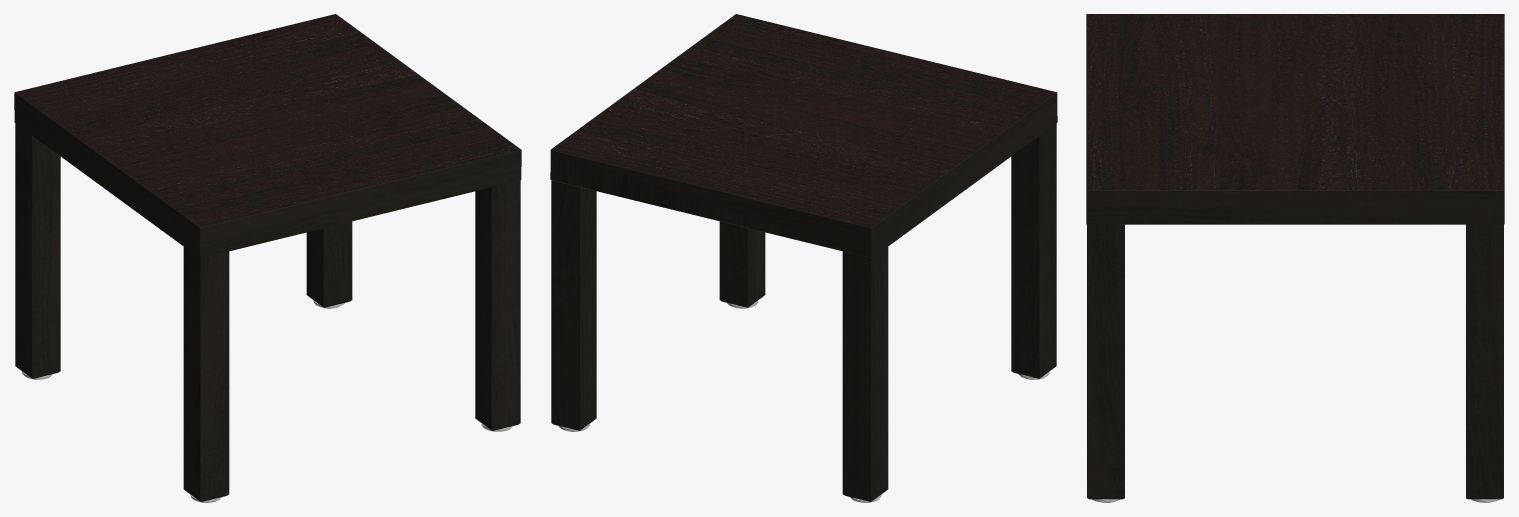
File: LACK_70319028.glb
3 renders of one model, left to right at view 1: azimuth 30°, elevation 25°; view 2: azimuth 150°, elevation 25°; view 3: azimuth 270°, elevation 25°, orthographic. The views are drawn at different scales.
Visible parts, largest first — view 1: model; view 2: model; view 3: model.
Boxes of the visible parts, x1=… form: model: x1=14, y1=14, x2=521, y2=502; model: x1=550, y1=14, x2=1057, y2=502; model: x1=1086, y1=14, x2=1504, y2=502.
Bounding box in the file's own units: 0.55 × 0.4556 × 0.55.
1 material, 1 textured.
